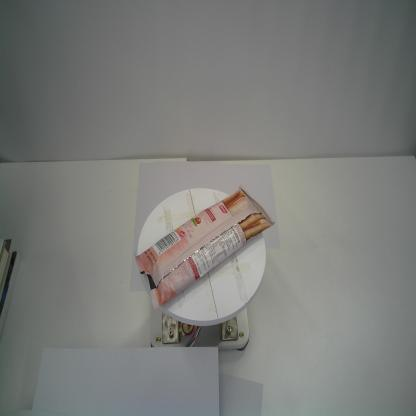Dessert: (134, 184, 275, 308)
